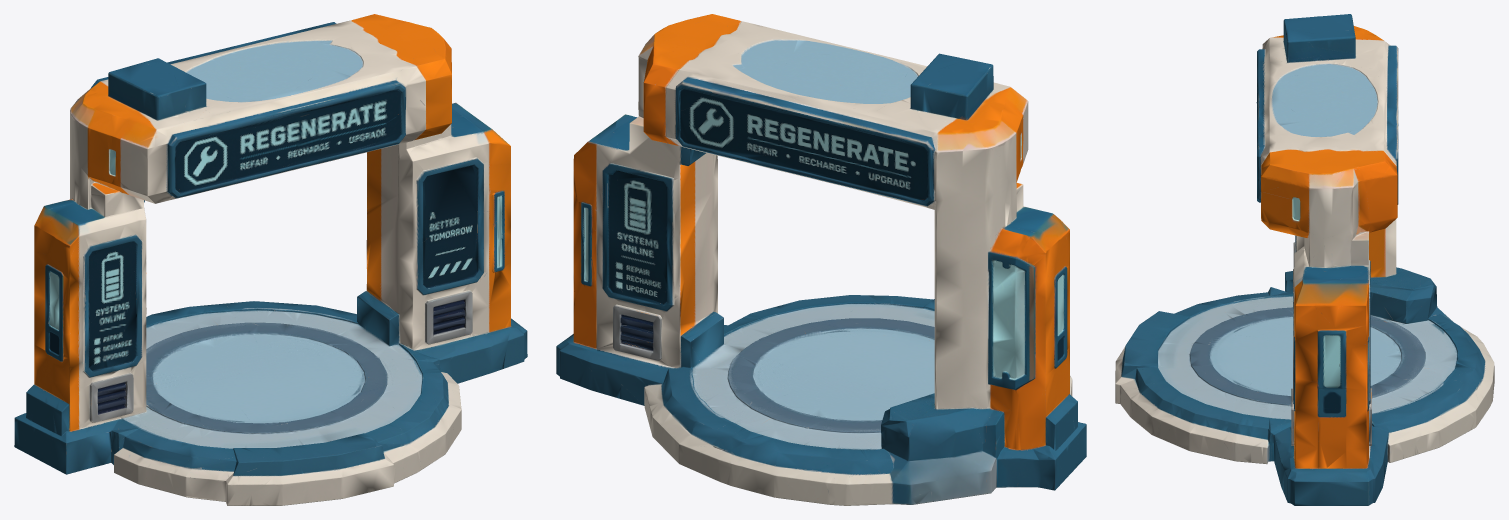
The model's file is Regeneration_Station_0915235726_texture.glb.
The picture shows the model from 3 angles, left to right: view 1: azimuth 30°, elevation 25°; view 2: azimuth 150°, elevation 25°; view 3: azimuth 270°, elevation 25°; orthographic projection. The views are drawn at different scales.
Parts seen in each view (by area): view 1: Mesh_0; view 2: Mesh_0; view 3: Mesh_0.
Boxes of the visible parts, left/top/right/bottom form: Mesh_0: left=14, top=14, right=527, bottom=505; Mesh_0: left=556, top=14, right=1086, bottom=505; Mesh_0: left=1115, top=14, right=1494, bottom=505.
Bounding box in the file's own units: 4.2 × 3 × 3.2.
Materials: 1 (1 with a texture image).
